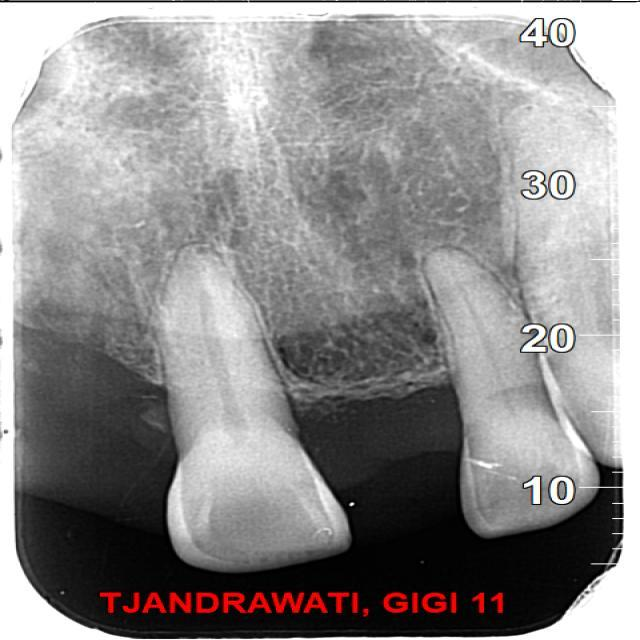individual-tooth-8tto: (155, 252, 347, 576), (437, 249, 602, 539)
